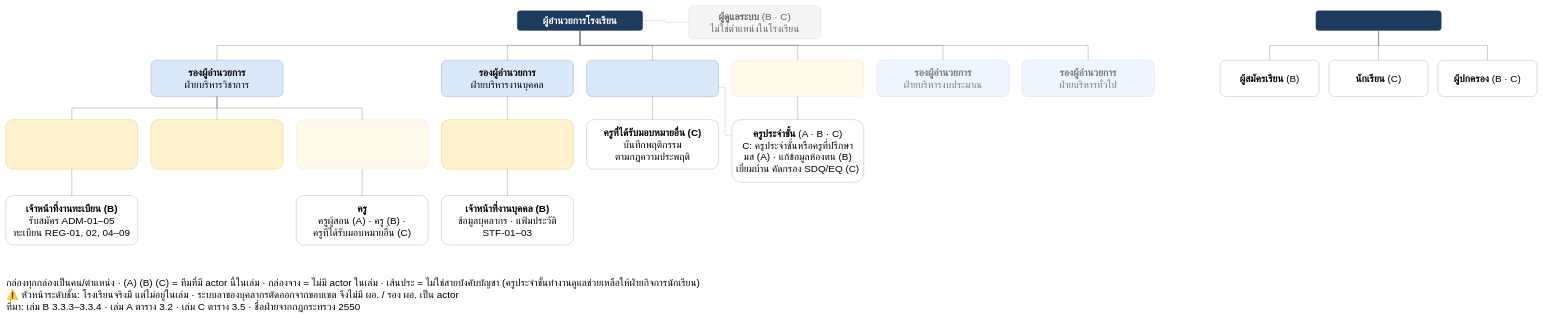
Some shapes in this 1543 by 330 pixel diagram are drawn without their labels. Each missing label, with the centre of its shape:
คนนอก / ผู้รับบริการ: (x=1378, y=20)
ครูฝ่ายวิชาการ (A) หลักสูตร · ตารางสอน · อนุมัติผลการเรียน: (x=217, y=144)
รองผู้อำนวยการ ฝ่ายกิจการนักเรียน: (x=652, y=78)
หัวหน้ากลุ่มสาระ 8 กลุ่มสาระการเรียนรู้ (ไม่มี actor ในเล่ม): (x=362, y=144)
หัวหน้างานทะเบียน (B) งานทะเบียนนักเรียน · งานรับสมัครนักเรียน: (x=71, y=144)
หัวหน้างานบุคคล (B) งานบุคลากร ตั้งค่างานบุคลากร (SET-02): (x=507, y=144)
หัวหน้าระดับชั้น ⚠️ ยังไม่ยืนยันว่าอยู่ใต้ฝ่ายใด: (x=797, y=78)
